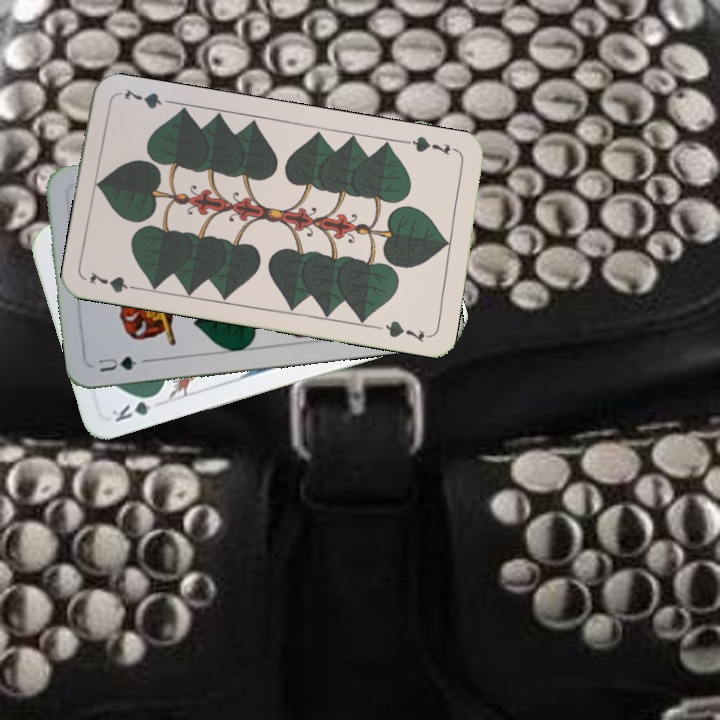G7: (85, 268, 144, 296), (402, 132, 461, 158)
GK: (107, 390, 162, 425)
GU: (94, 352, 140, 375)
